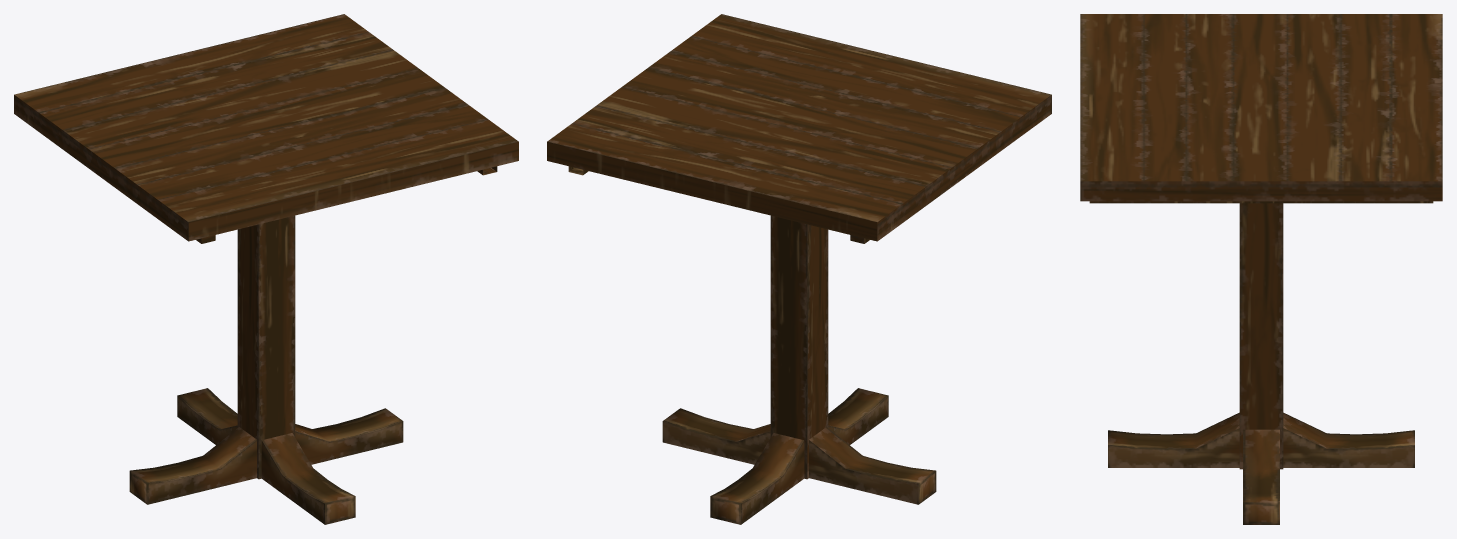
Rendered from Square Table.fbx.
The picture shows the model from 3 angles, left to right: view 1: azimuth 30°, elevation 25°; view 2: azimuth 150°, elevation 25°; view 3: azimuth 270°, elevation 25°; orthographic projection. The views are drawn at different scales.
Parts seen in each view (by area): view 1: Cube.246; view 2: Cube.246; view 3: Cube.246.
Boxes of the visible parts, x1,y1,x2,y2 form: Cube.246: (14, 14, 518, 524); Cube.246: (547, 14, 1051, 524); Cube.246: (1080, 14, 1442, 524).
Size of the model in its own units: 120 by 121 by 110.
